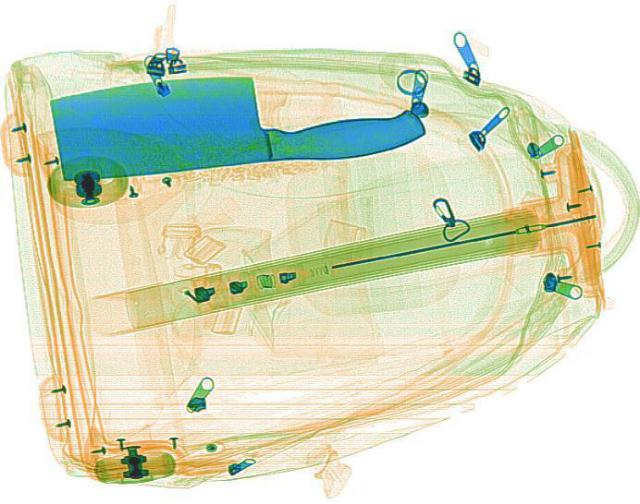Knife: (44, 46, 428, 191)
